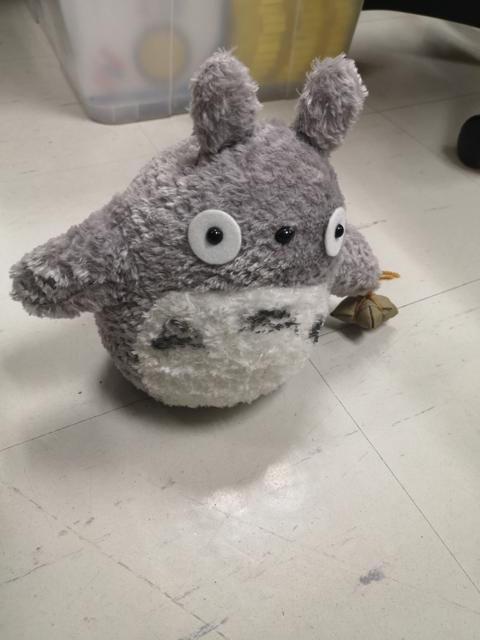totoro: (3, 47, 412, 423)
